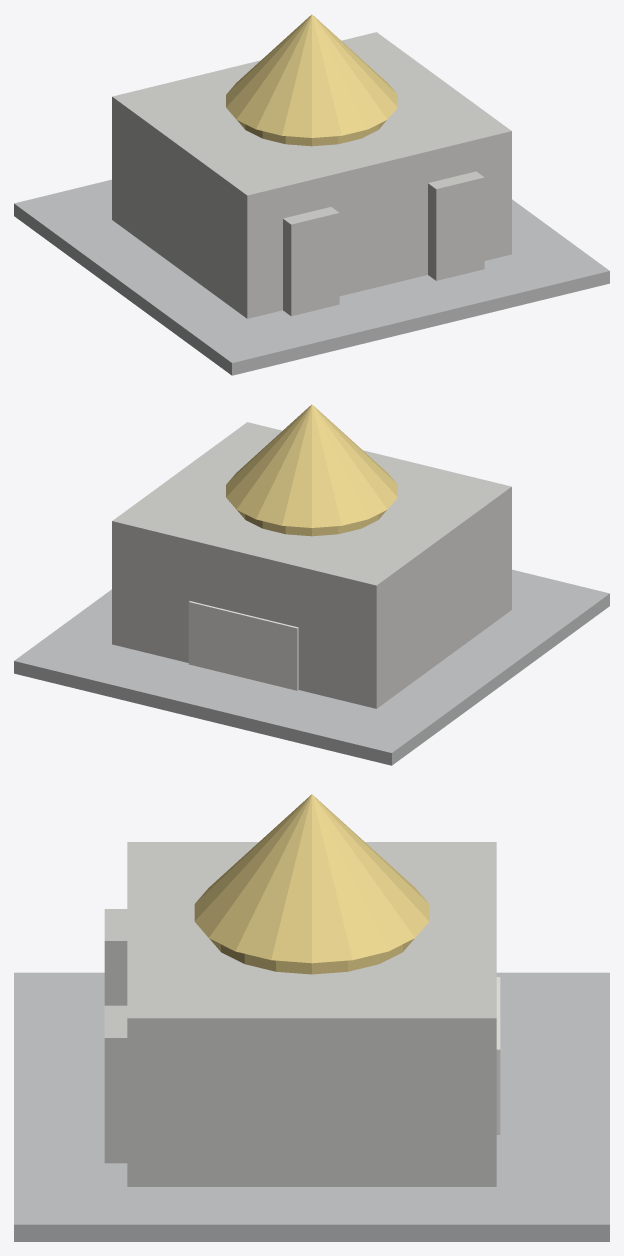
File: district_center.glb
The picture shows the model from 3 angles, top to bottom: view 1: azimuth 30°, elevation 25°; view 2: azimuth 150°, elevation 25°; view 3: azimuth 270°, elevation 25°; orthographic projection. The views are drawn at different scales.
Parts seen in each view (by area): view 1: hall_body, base, golden_dome, wing_1, wing_0, dome_base; view 2: hall_body, base, golden_dome, front_portal, dome_base; view 3: hall_body, base, golden_dome, wing_1, wing_0, dome_base, front_portal.
Part boxes in pixels (x1,y1,x2,y2): hall_body: (112,32,511,318); base: (14,179,609,375); golden_dome: (226,14,397,137); wing_1: (428,171,484,280); wing_0: (283,207,339,316); dome_base: (237,120,386,146); hall_body: (112,422,511,708); base: (14,569,609,765); golden_dome: (226,404,397,527); front_portal: (188,601,298,690); dome_base: (237,510,386,536); hall_body: (127,842,496,1186); base: (14,972,609,1241); golden_dome: (194,794,429,963); wing_1: (104,1005,127,1163); wing_0: (104,909,127,1005); dome_base: (209,938,414,974); front_portal: (496,977,500,1134).
Bounding box in the file's own units: 2.5 × 1.49 × 2.5.
